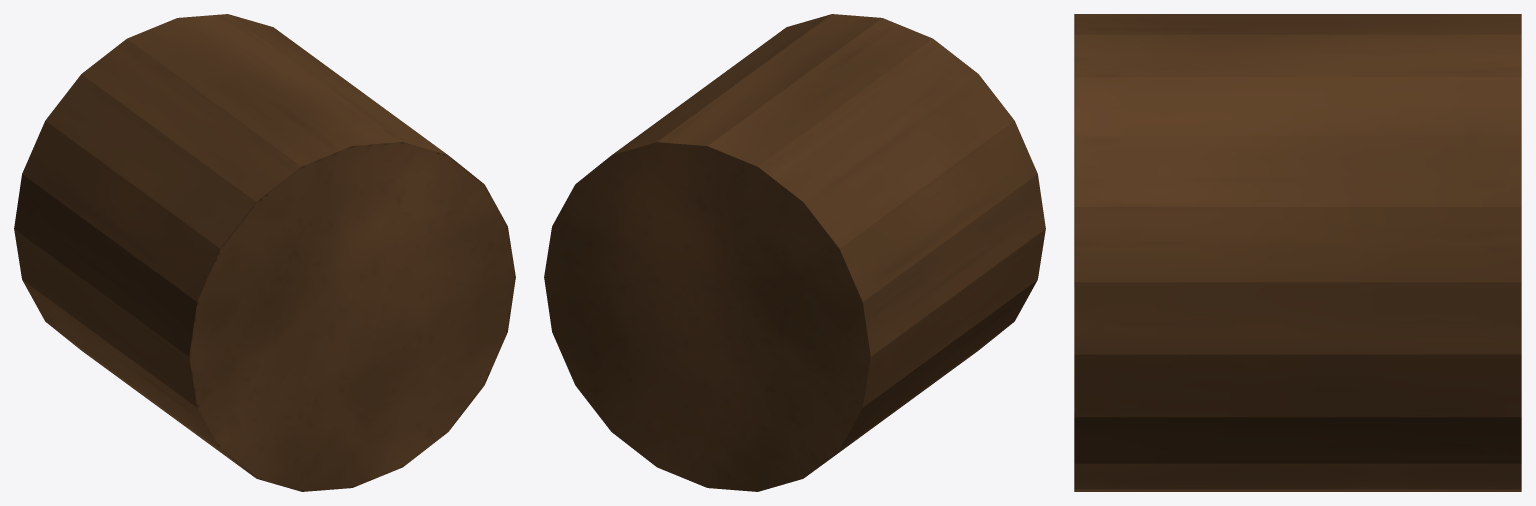
Rendered from Frame hardwood drawbore peg__n16.glb.
The picture shows the model from 3 angles, left to right: view 1: azimuth 30°, elevation 25°; view 2: azimuth 150°, elevation 25°; view 3: azimuth 270°, elevation 25°; orthographic projection. The views are drawn at different scales.
Parts seen in each view (by area): view 1: Frame hardwood drawbore peg; view 2: Frame hardwood drawbore peg; view 3: Frame hardwood drawbore peg.
Boxes of the visible parts, bbox=[...] form: Frame hardwood drawbore peg: bbox=[14, 14, 515, 491]; Frame hardwood drawbore peg: bbox=[544, 14, 1045, 491]; Frame hardwood drawbore peg: bbox=[1074, 14, 1521, 491].
Bounding box in the file's own units: 0.056 × 0.056 × 0.052.
Materials: 1 (1 with a texture image).
